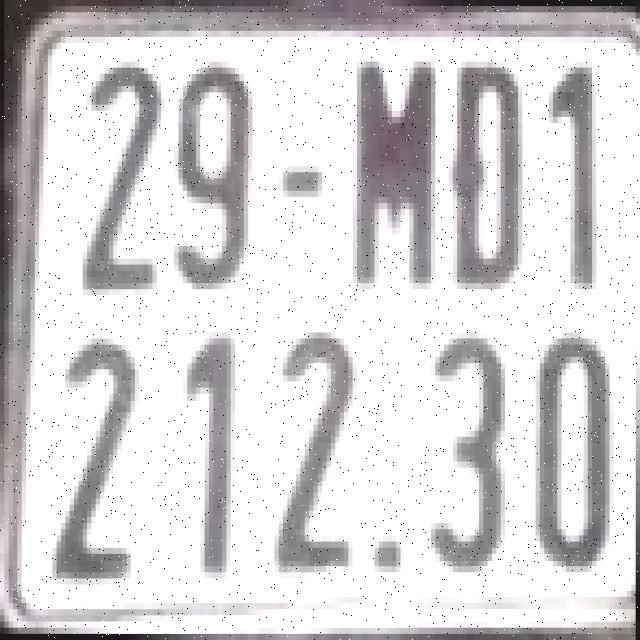0: (535, 329, 614, 569)
1: (178, 326, 244, 579), (549, 62, 605, 289)
2: (50, 329, 142, 582), (270, 320, 357, 572), (78, 56, 161, 296)
3: (427, 326, 509, 572)
9: (172, 56, 255, 290)
D: (451, 59, 529, 292)
M: (346, 49, 438, 289)
